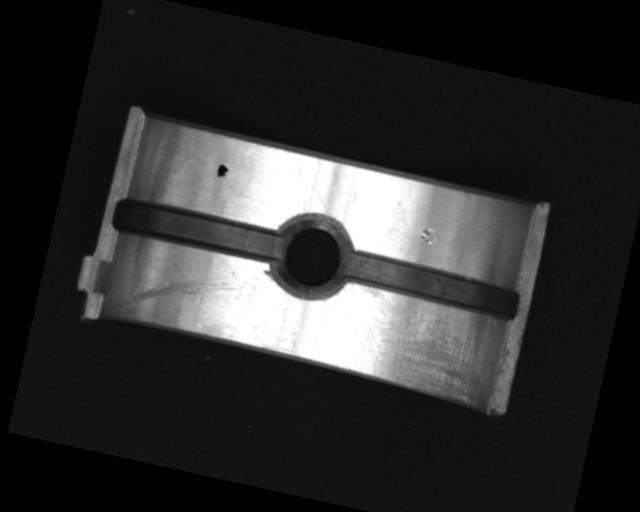blot: (214, 162, 229, 181)
bruise: (416, 224, 440, 247)
gap: (337, 247, 526, 326), (108, 193, 286, 267)
hole: (262, 208, 360, 305)
nick: (120, 251, 246, 336)
scratch: (346, 286, 499, 409)
